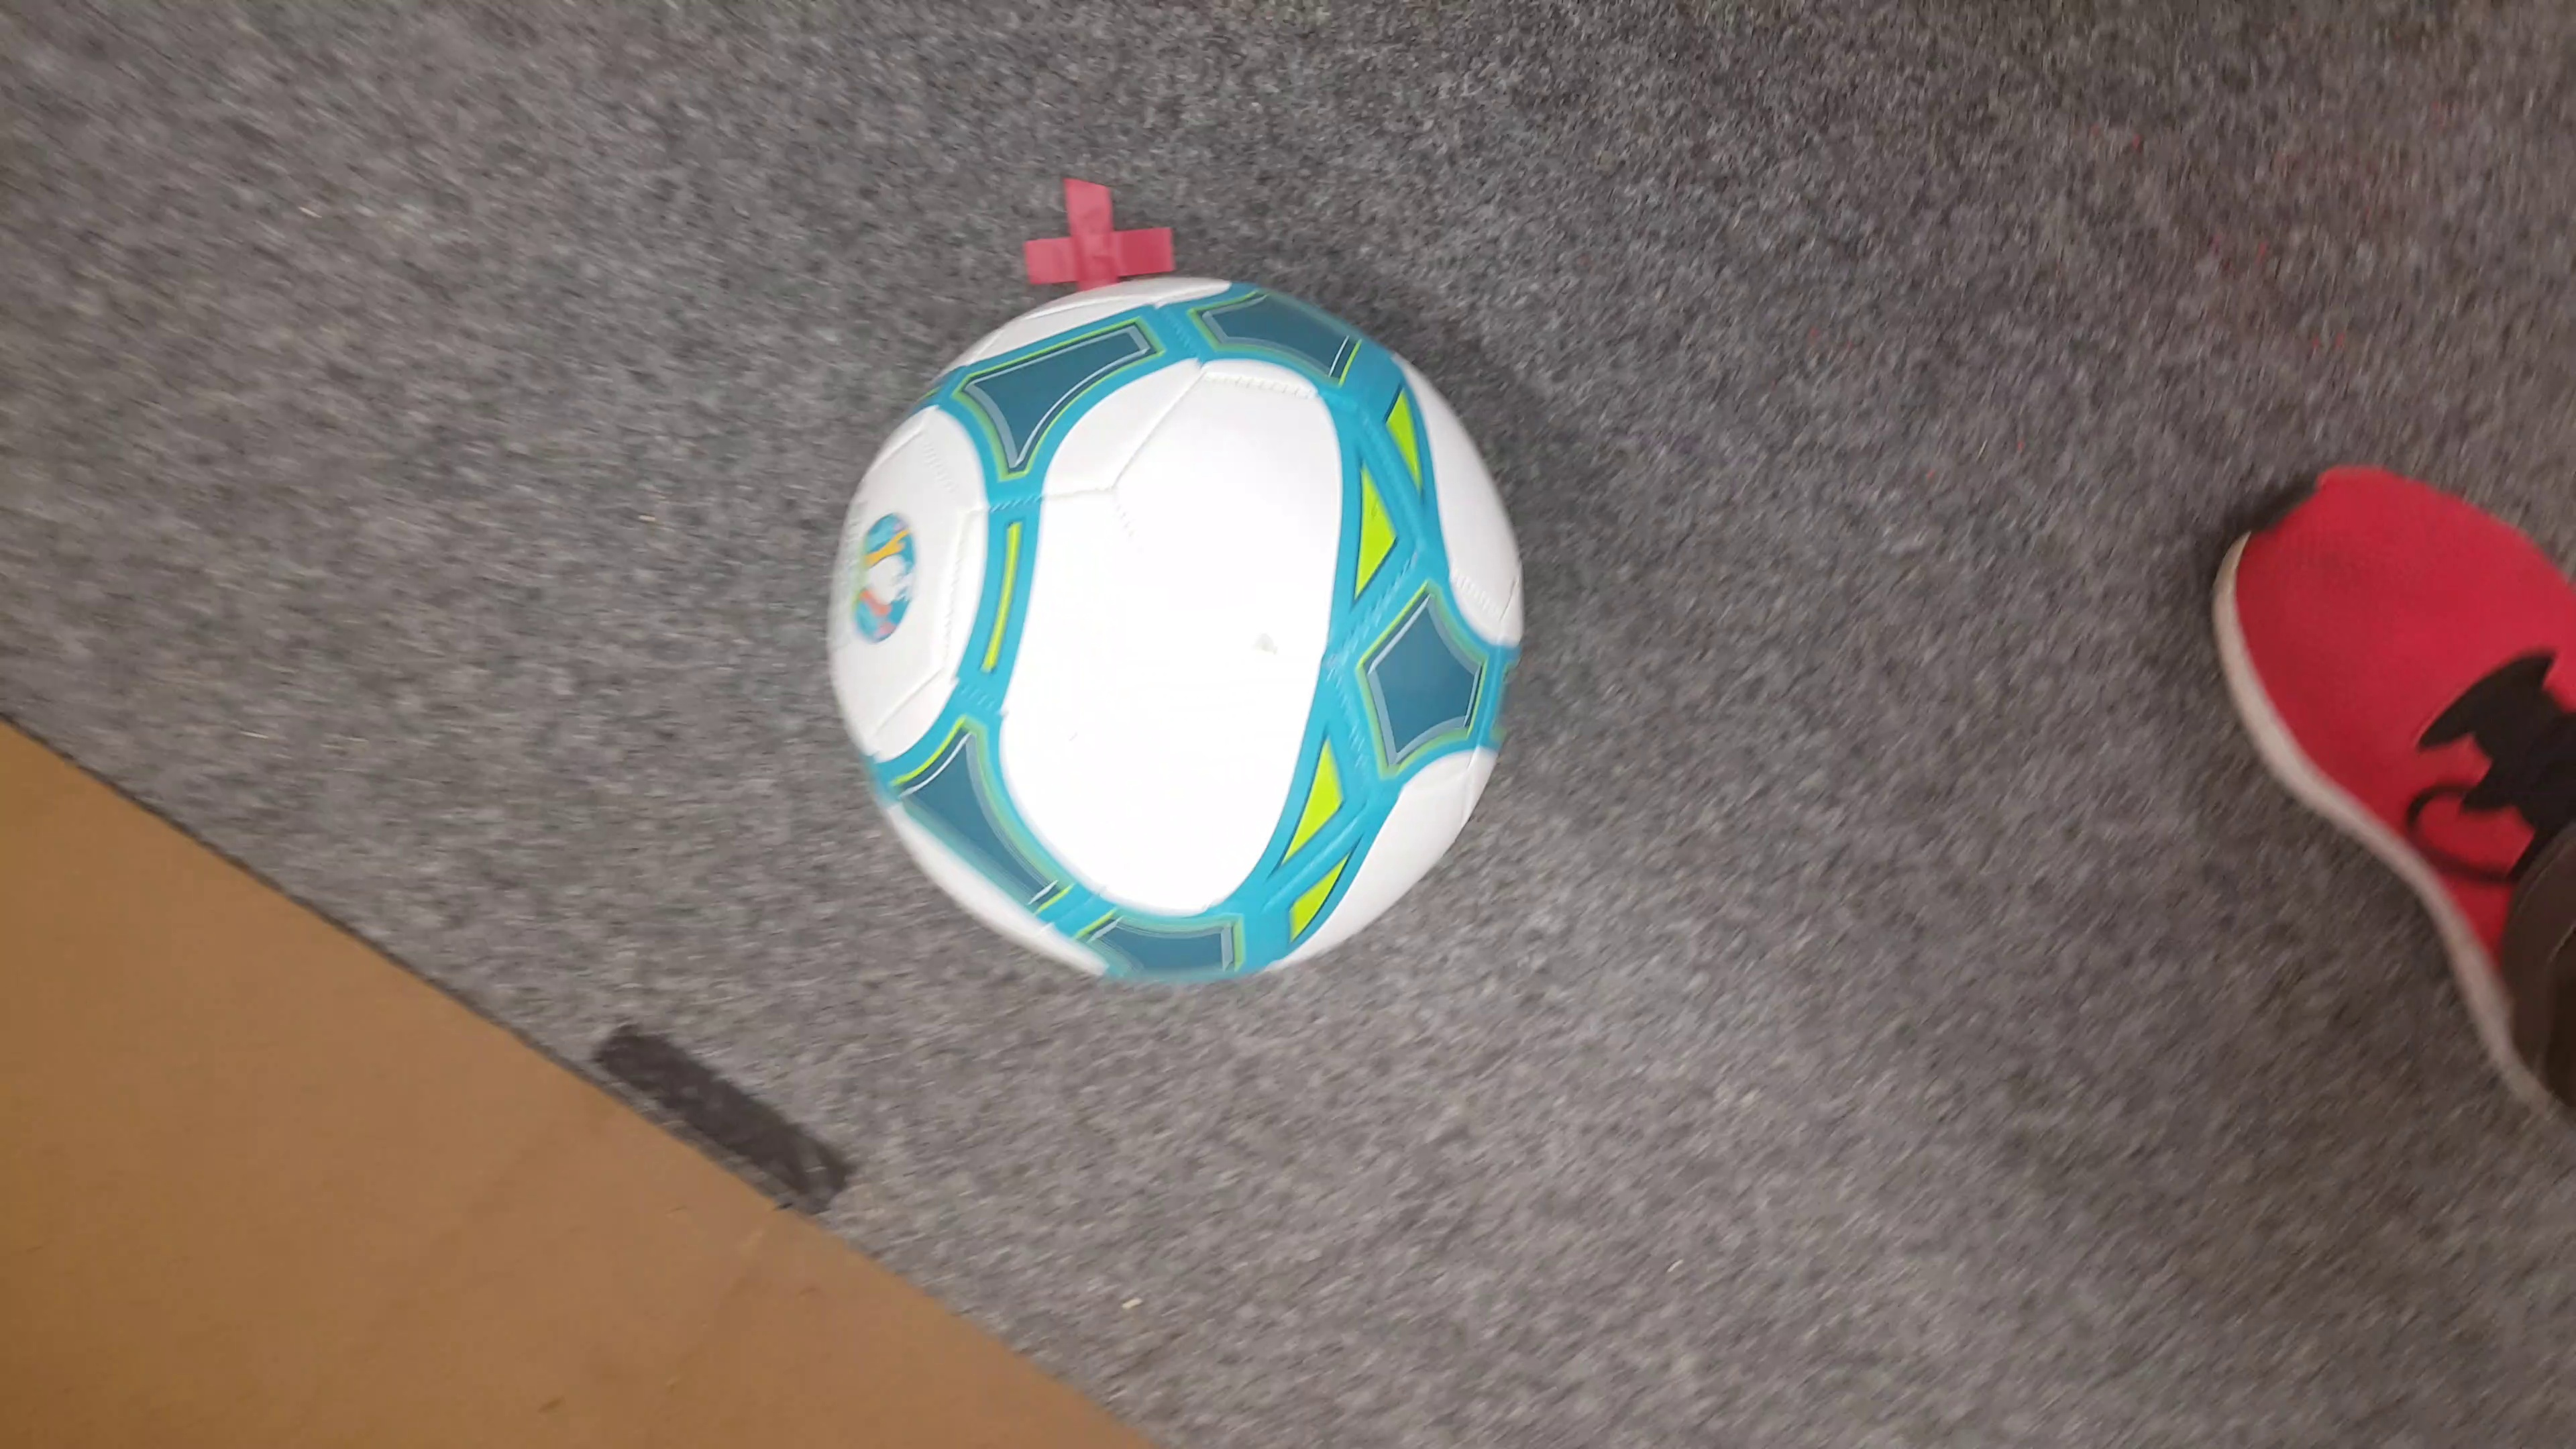kick: (826, 274, 1523, 982)
